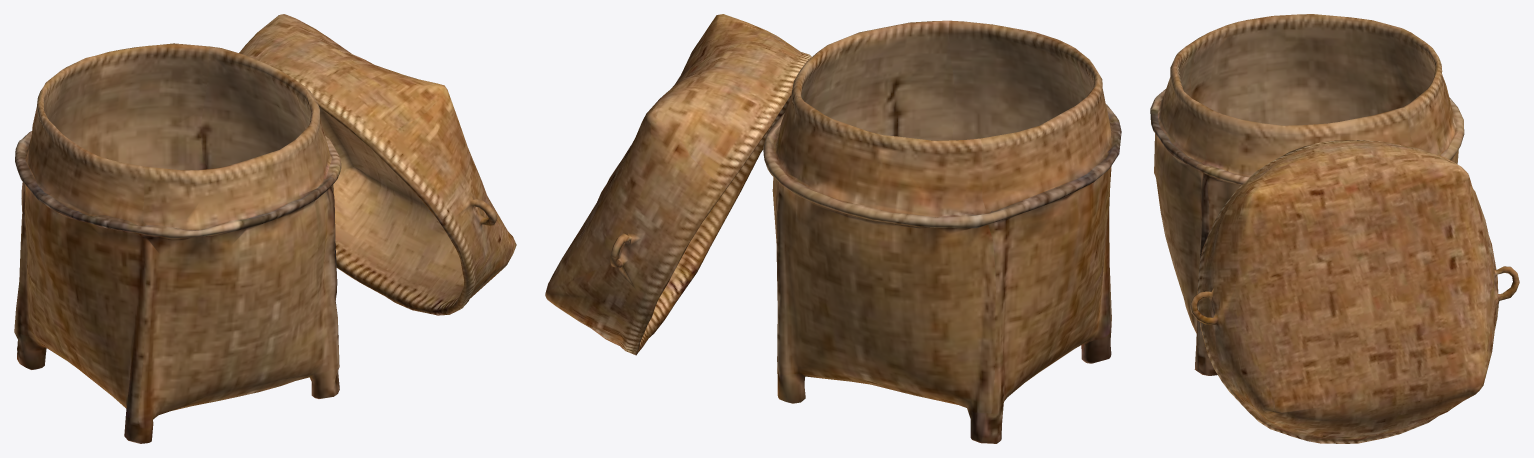
Rendered from wicker_basket_02.glb.
3 views of the same model, side by side, from view 1: azimuth 30°, elevation 25°; view 2: azimuth 150°, elevation 25°; view 3: azimuth 270°, elevation 25° (orthographic). The views are drawn at different scales.
Visible parts, largest first — view 1: wicker_basket_02_base, wicker_basket_02_lid; view 2: wicker_basket_02_base, wicker_basket_02_lid; view 3: wicker_basket_02_lid, wicker_basket_02_base.
Boxes of the visible parts, bbox=[...] form: wicker_basket_02_base: bbox=[14, 43, 341, 443]; wicker_basket_02_lid: bbox=[239, 14, 516, 315]; wicker_basket_02_base: bbox=[763, 20, 1121, 443]; wicker_basket_02_lid: bbox=[545, 14, 811, 355]; wicker_basket_02_lid: bbox=[1190, 140, 1519, 443]; wicker_basket_02_base: bbox=[1150, 14, 1464, 375].
Bounding box in the file's own units: 0.3469 × 0.2004 × 0.2541.
1 material, 1 textured.
